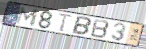3: (111, 22, 127, 43)
8: (38, 10, 55, 30)
B: (89, 18, 111, 40), (70, 15, 92, 36)
M: (15, 6, 41, 27)
T: (57, 12, 75, 32)
